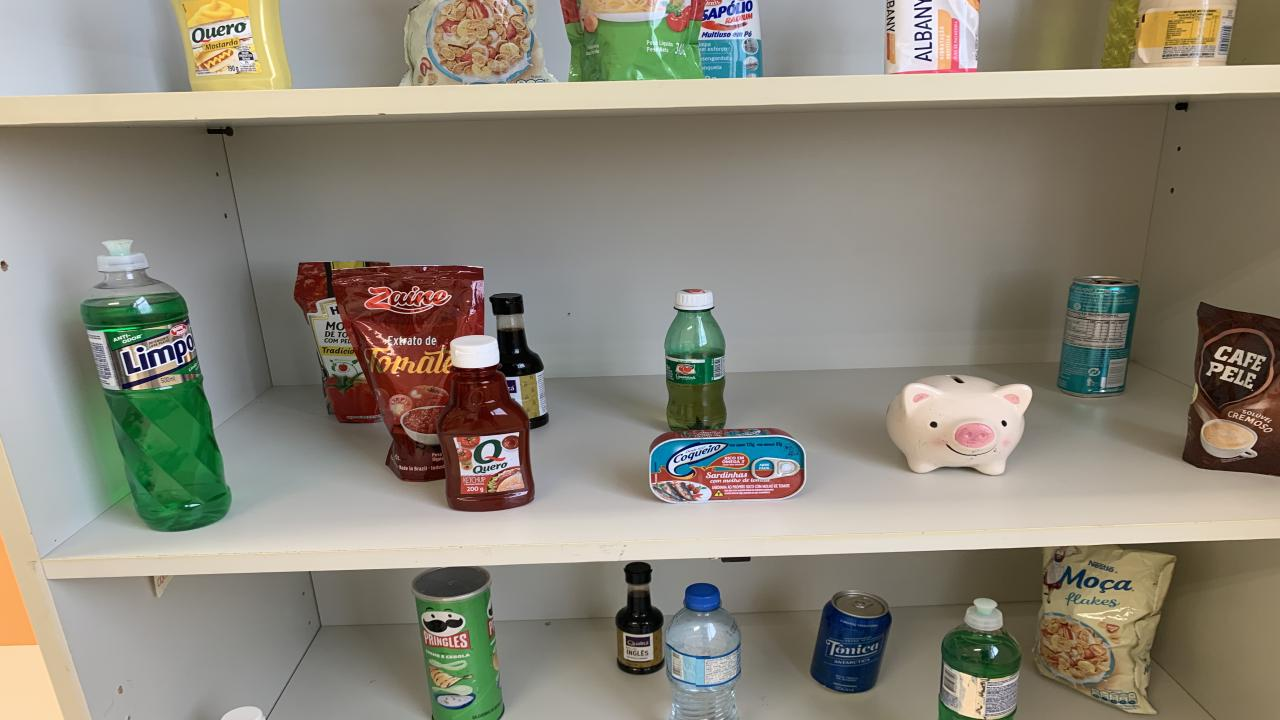Cleaner-Cleanup_Items: (698, 0, 762, 79)
Coffee-Pantry_Items: (1182, 304, 1280, 474)
Detergent-Cleanup_Items: (80, 240, 230, 531), (938, 598, 1022, 720)
English_Sauce-Pantry_Items: (490, 292, 550, 428), (615, 562, 665, 675)
Flakes-Snacks: (1032, 546, 1175, 714), (400, 0, 555, 86)
Guarana-Drinks: (665, 289, 725, 429)
Ketchup-Pantry_Items: (438, 336, 535, 512), (295, 261, 388, 424)
Mayonnaise-Pantry_Items: (1130, 0, 1238, 68)
Mustard-Pantry_Items: (172, 0, 292, 92)
Pig_Safe-Miscellaneous: (888, 375, 1032, 474)
Pringles-Snacks: (412, 566, 505, 720)
Soap-Cleanup_Items: (885, 0, 980, 73)
Tea-Drinks: (1058, 276, 1140, 398)
Tomato_Sauce-Pantry_Items: (332, 266, 485, 482), (565, 0, 705, 81)
Tonic-Drinks: (810, 591, 892, 692)
Tuna_Can-Pantry_Items: (650, 428, 805, 502)
Water_Bottle-Drinks: (665, 583, 740, 720)
